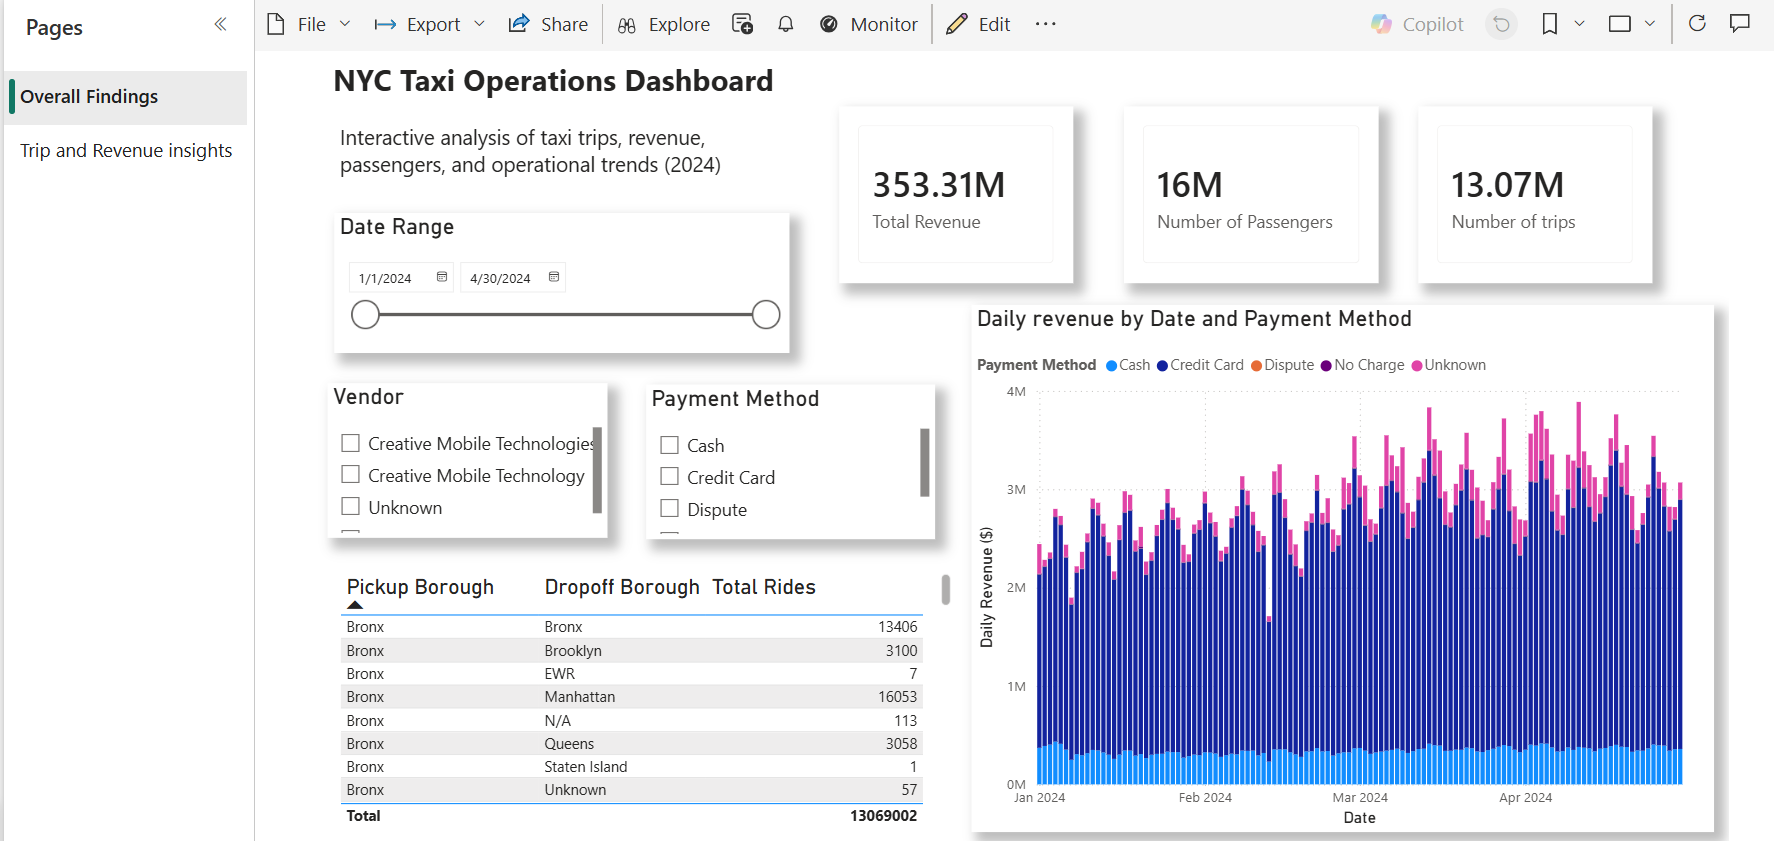

The page's visual inventory and layout, read from the dashboard file:
{"tool":"powerbi","page":{"name":"Overall Findings","canvas":[1280,720],"ordinal":0},"visuals":[{"type":"textbox","box":[12,2.7,546.6,48],"z":0},{"type":"slicer","title":"Date Range","fields":{"Values":["nyctaxi_yellow.tpep_pickup_datetime"]},"box":[18.7,146.7,412,126.7],"z":1000},{"type":"cardVisual","fields":{"Data":["Sum(nyctaxi_yellow.total_amount)"]},"box":[474.7,50.7,212,160],"z":2000},{"type":"cardVisual","fields":{"Data":["Sum(nyctaxi_yellow.passenger_count)"]},"box":[733.3,50.7,230.7,160],"z":3000},{"type":"cardVisual","fields":{"Data":["CountNonNull(nyctaxi_yellow.trip_distance)"]},"box":[998.6,50.7,212,160],"z":4000},{"type":"slicer","title":"Vendor","fields":{"Values":["nyctaxi_yellow.vendor"]},"box":[12,300,253.3,140],"z":5000},{"type":"columnChart","title":"Daily revenue by Date and Payment Method","fields":{"Category":["nyctaxi_yellow.tpep_pickup_datetime"],"Series":["nyctaxi_yellow.payment_method"],"Y":["Sum(nyctaxi_yellow.total_amount)"]},"box":[594.6,229.3,672,477.3],"z":6000},{"type":"slicer","title":"Payment Method","fields":{"Values":["nyctaxi_yellow.payment_method"]},"box":[300,301.3,261.3,140],"z":7000},{"type":"tableEx","fields":{"Values":["nyctaxi_yellow.pu_borough","nyctaxi_yellow.do_borough","CountNonNull(nyctaxi_yellow.trip_distance)"]},"box":[18.7,468,562.6,238.7],"z":8000},{"type":"textbox","box":[18.7,60,412,70.7],"z":9000}]}

Visuals, with their boxes on the page's 1280x720 design canvas (x1, y1, x2, y2). These are canvas units, not pixel positions in the 1774x841 screenshot, which may show the page scaled, cropped or inside an application window:
textbox: bbox=(12, 3, 559, 51)
"Date Range" slicer: bbox=(19, 147, 431, 273)
cardVisual - Sum(nyctaxi_yellow.total_amount): bbox=(475, 51, 687, 211)
cardVisual - Sum(nyctaxi_yellow.passenger_count): bbox=(733, 51, 964, 211)
cardVisual - CountNonNull(nyctaxi_yellow.trip_distance): bbox=(999, 51, 1211, 211)
"Vendor" slicer: bbox=(12, 300, 265, 440)
"Daily revenue by Date and Payment Method" columnChart: bbox=(595, 229, 1267, 707)
"Payment Method" slicer: bbox=(300, 301, 561, 441)
tableEx - nyctaxi_yellow.pu_borough x nyctaxi_yellow.do_borough: bbox=(19, 468, 581, 707)
textbox: bbox=(19, 60, 431, 131)
